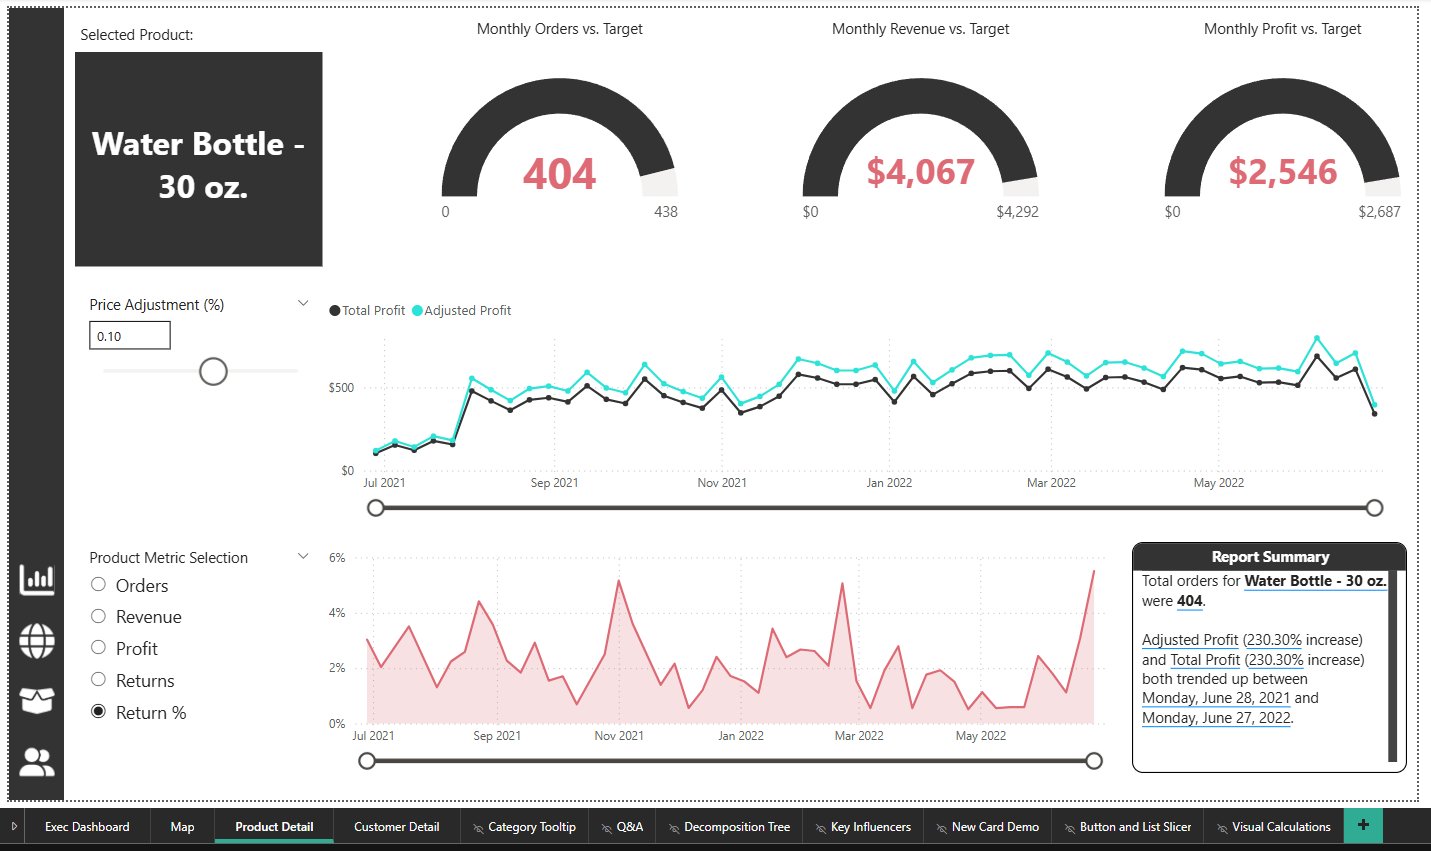

Layout of this report page (visuals, bound fields, positions):
{"tool":"powerbi","page":{"name":"Product Detail","canvas":[1280,720],"ordinal":2},"visuals":[{"type":"shape","box":[0,0,50,720],"z":0},{"type":"actionButton","box":[5.5,555,40,40],"z":0,"group":"g1"},{"type":"gauge","title":"Monthly Orders vs. Target","fields":{"MaxValue":["Measure Table.Order Target"],"Y":["Measure Table.Total Orders"]},"box":[388.3,10,225,225],"z":2},{"type":"gauge","title":"Monthly Revenue vs. Target","fields":{"MaxValue":["Measure Table.Revenue Target"],"Y":["Measure Table.Total Revenue"]},"box":[716.7,10,225,225],"z":3},{"type":"gauge","title":"Monthly Profit vs. Target","fields":{"MaxValue":["Measure Table.Profit Target"],"Y":["Measure Table.Total Profit"]},"box":[1045,10,225,225],"z":4},{"type":"lineChart","title":"Profit Trending","fields":{"Category":["Calendar Lookup.Date Hierarchy.Start of Year","Calendar Lookup.Date Hierarchy.Start of Month","Calendar Lookup.Date Hierarchy.Start of Week","Calendar Lookup.Date Hierarchy.Date"],"Y":["Measure Table.Total Profit","Measure Table.Adjusted Profit"]},"box":[285.5,255.5,985,210],"z":5},{"type":"areaChart","title":"Return Trending","fields":{"Category":["Calendar Lookup.Date Hierarchy.Start of Year","Calendar Lookup.Date Hierarchy.Start of Month","Calendar Lookup.Date Hierarchy.Start of Week","Calendar Lookup.Date Hierarchy.Date"],"Y":["Measure Table.Return Rate"]},"box":[285.5,485.5,730,210],"z":6},{"type":"card","fields":{"Values":["Min(Product Lookup.ProductName)"]},"box":[60,40,225,195],"z":7},{"type":"textbox","box":[60,10,225,30],"z":8},{"type":"group","id":"g1","title":"Navigation Buttons","box":[5.5,500,40,205],"z":9},{"type":"slicer","fields":{"Values":["Price Adjustment (%).Price Adjustment (%)"]},"box":[60,255.5,225.5,150],"z":10},{"type":"slicer","fields":{"Values":["Product Metric Selection.Product Metric Selection"]},"box":[60,485.5,225.5,210],"z":11},{"type":"textbox","title":"Report Summary","box":[1020.9,485.5,250,210],"z":12},{"type":"actionButton","box":[5.5,500,40,40],"z":1000,"group":"g1"},{"type":"actionButton","box":[5.5,665,40,40],"z":2000,"group":"g1"},{"type":"actionButton","box":[5.5,610,40,40],"z":3000,"group":"g1"}]}

Visuals, with their boxes on the page's 1280x720 design canvas (x1, y1, x2, y2). These are canvas units, not pixel positions in the 1431x851 screenshot, which may show the page scaled, cropped or inside an application window:
shape: crop(0, 0, 50, 720)
actionButton: crop(6, 555, 46, 595)
"Monthly Orders vs. Target" gauge: crop(388, 10, 613, 235)
"Monthly Revenue vs. Target" gauge: crop(717, 10, 942, 235)
"Monthly Profit vs. Target" gauge: crop(1045, 10, 1270, 235)
"Profit Trending" lineChart: crop(286, 256, 1270, 466)
"Return Trending" areaChart: crop(286, 486, 1016, 696)
card - Min(Product Lookup.ProductName): crop(60, 40, 285, 235)
textbox: crop(60, 10, 285, 40)
"Navigation Buttons" group: crop(6, 500, 46, 705)
slicer - Price Adjustment (%).Price Adjustment (%): crop(60, 256, 286, 406)
slicer - Product Metric Selection.Product Metric Selection: crop(60, 486, 286, 696)
"Report Summary" textbox: crop(1021, 486, 1271, 696)
actionButton: crop(6, 500, 46, 540)
actionButton: crop(6, 665, 46, 705)
actionButton: crop(6, 610, 46, 650)
